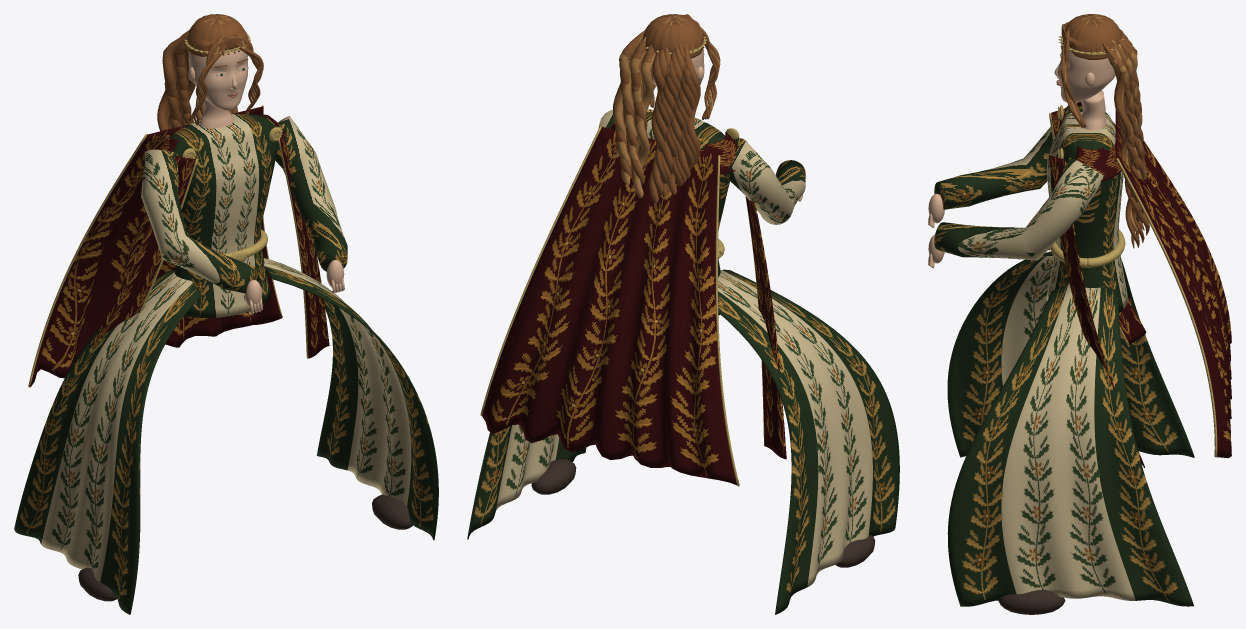
File: princess-v9-mounted.glb
3 views of the same model, side by side, from view 1: azimuth 30°, elevation 25°; view 2: azimuth 150°, elevation 25°; view 3: azimuth 270°, elevation 25° (orthographic).
Visible parts, largest first — view 1: MorrisPrincess_surface, cape_surface, body_surface, head_surface, armL_surface, armR_surface; view 2: cape_surface, MorrisPrincess_surface, head_surface, armL_surface, body_surface; view 3: MorrisPrincess_surface, cape_surface, head_surface, body_surface, armR_surface, armL_surface.
Part boxes in pixels (left/top/right/bottom): MorrisPrincess_surface: left=14, top=258, right=438, bottom=614; cape_surface: left=28, top=105, right=329, bottom=387; body_surface: left=170, top=98, right=282, bottom=317; head_surface: left=157, top=14, right=263, bottom=141; armL_surface: left=141, top=149, right=262, bottom=313; armR_surface: left=275, top=116, right=347, bottom=293; cape_surface: left=480, top=109, right=786, bottom=486; MorrisPrincess_surface: left=467, top=269, right=899, bottom=614; head_surface: left=613, top=14, right=720, bottom=203; armL_surface: left=723, top=138, right=805, bottom=224; body_surface: left=646, top=108, right=739, bottom=315; MorrisPrincess_surface: left=947, top=251, right=1194, bottom=614; cape_surface: left=1049, top=102, right=1231, bottom=467; head_surface: left=1054, top=14, right=1149, bottom=248; body_surface: left=1046, top=90, right=1127, bottom=312; armR_surface: left=928, top=157, right=1104, bottom=268; armL_surface: left=928, top=102, right=1077, bottom=227.
Bounding box in the file's own units: 0.948 × 1.46 × 0.767.
Materials: 10 (2 with a texture image).
